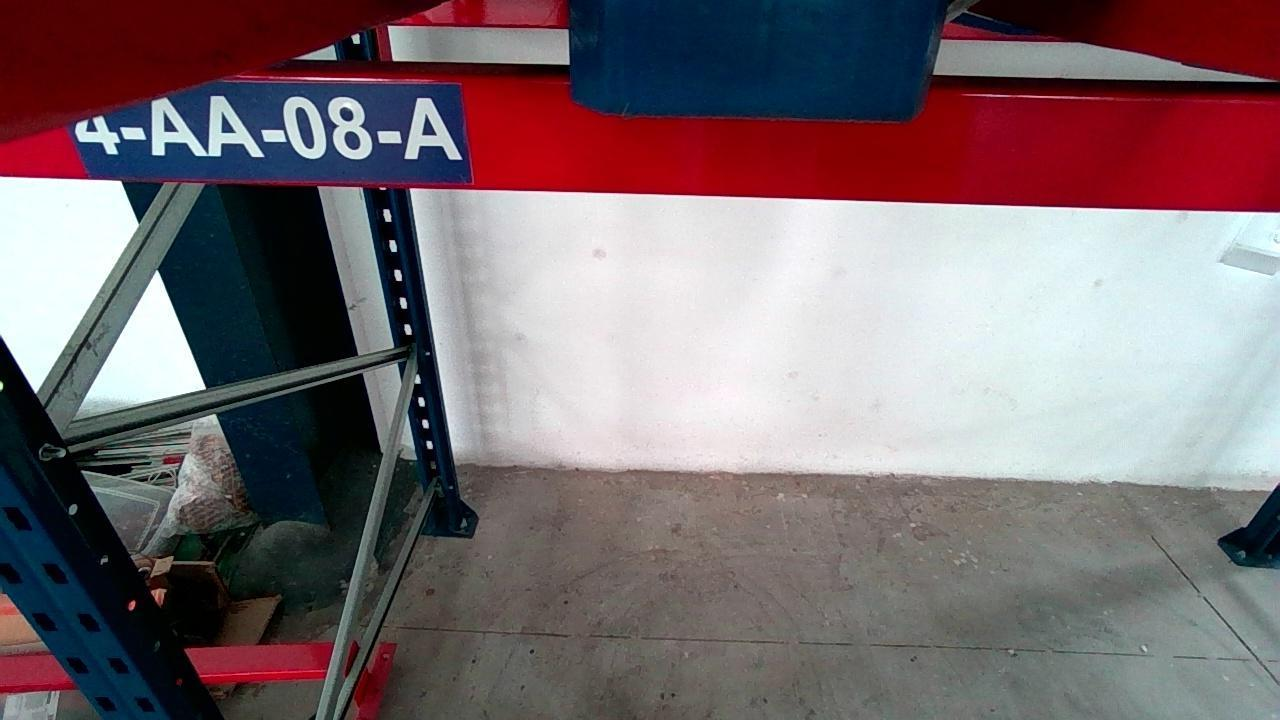h_rack: (0, 80, 1280, 212)
